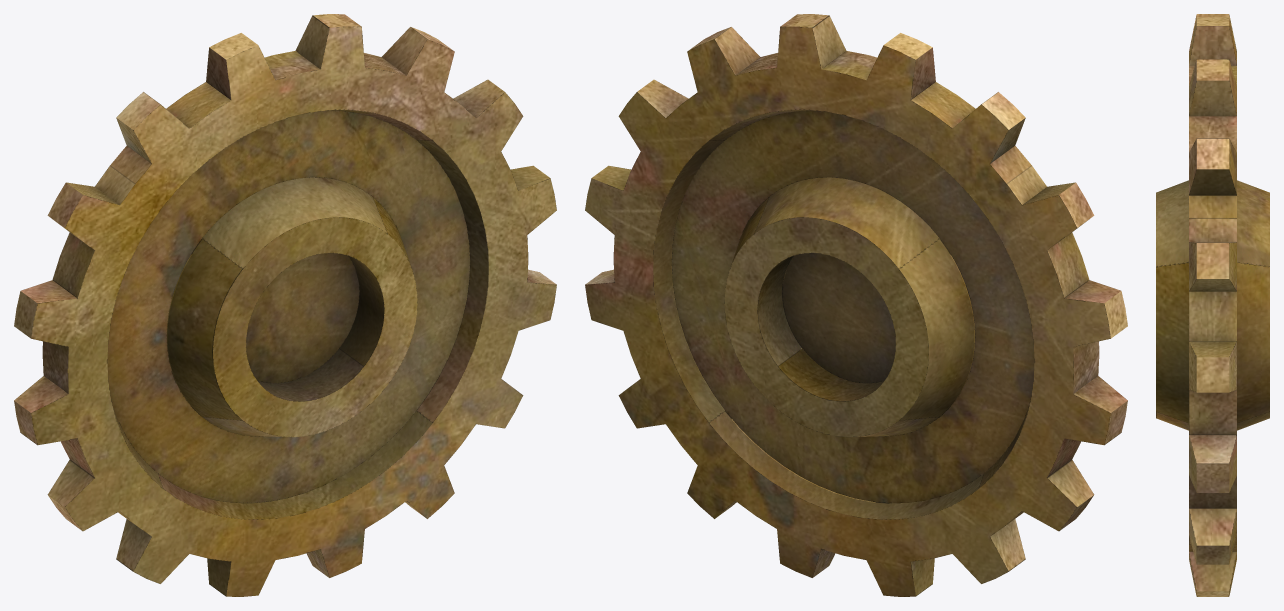
The model's file is torre.glb.
The picture shows the model from 3 angles, left to right: view 1: azimuth 30°, elevation 25°; view 2: azimuth 150°, elevation 25°; view 3: azimuth 270°, elevation 25°; orthographic projection. The views are drawn at different scales.
Visible parts, largest first — view 1: Cylinder; view 2: Cylinder; view 3: Cylinder.
Boxes of the visible parts, x1=… form: Cylinder: x1=14, y1=14, x2=556, y2=596; Cylinder: x1=585, y1=14, x2=1127, y2=596; Cylinder: x1=1156, y1=14, x2=1269, y2=596.
Bounding box in the file's own units: 3.52 × 3.52 × 0.6908.
1 material, 1 textured.
